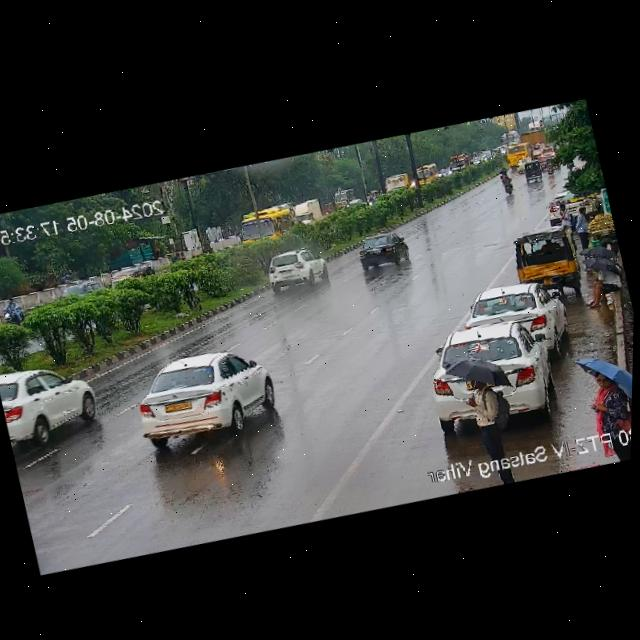bus: (503, 141, 533, 166)
car: (125, 340, 285, 461), (418, 316, 555, 434), (0, 353, 105, 452), (460, 271, 572, 355), (503, 223, 582, 297), (260, 243, 327, 296), (353, 229, 414, 276), (233, 202, 295, 246), (517, 159, 547, 188)
motorcycle: (492, 166, 516, 195)
person: (455, 368, 518, 457), (583, 364, 633, 438), (578, 265, 627, 313), (567, 199, 598, 247)
truck: (291, 195, 324, 228), (414, 161, 440, 186), (384, 171, 411, 193), (520, 127, 548, 148)
